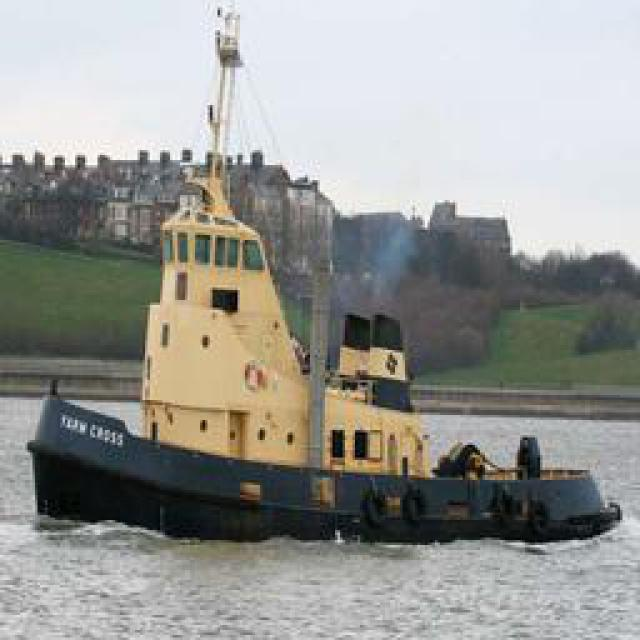Ship: (42, 41, 600, 551)
